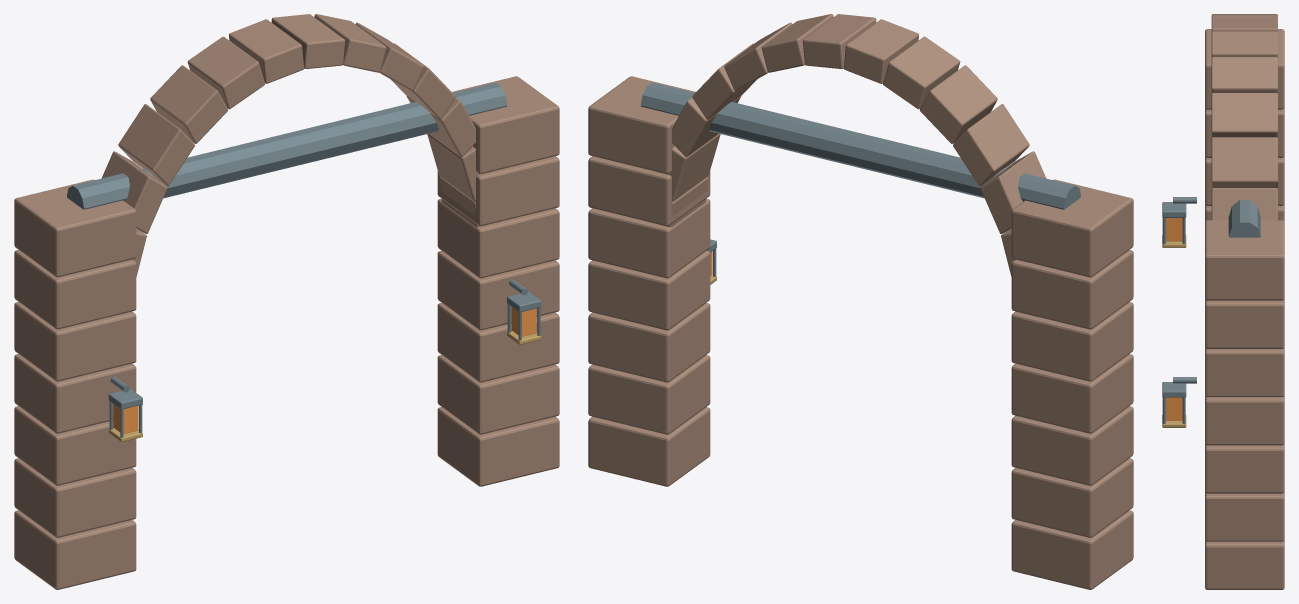
The model's file is a2_gate.glb.
3 views of the same model, side by side, from view 1: azimuth 30°, elevation 25°; view 2: azimuth 150°, elevation 25°; view 3: azimuth 270°, elevation 25° (orthographic). The views are drawn at different scales.
Visible parts, largest first — view 1: Body.008; view 2: Body.008; view 3: Body.008.
Boxes of the visible parts, bbox=[...] form: Body.008: bbox=[14, 14, 559, 589]; Body.008: bbox=[588, 14, 1133, 589]; Body.008: bbox=[1162, 14, 1284, 589].
Bounding box in the file's own units: 4.05 × 3.71 × 0.92.
